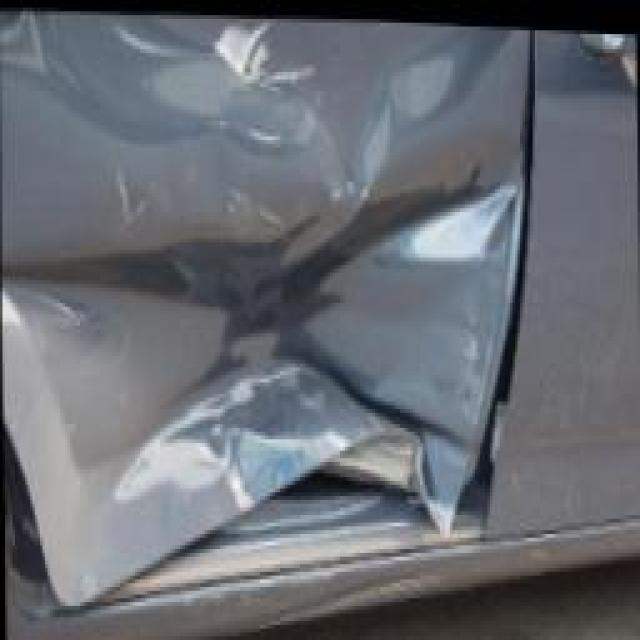Door: (0, 0, 505, 552)
